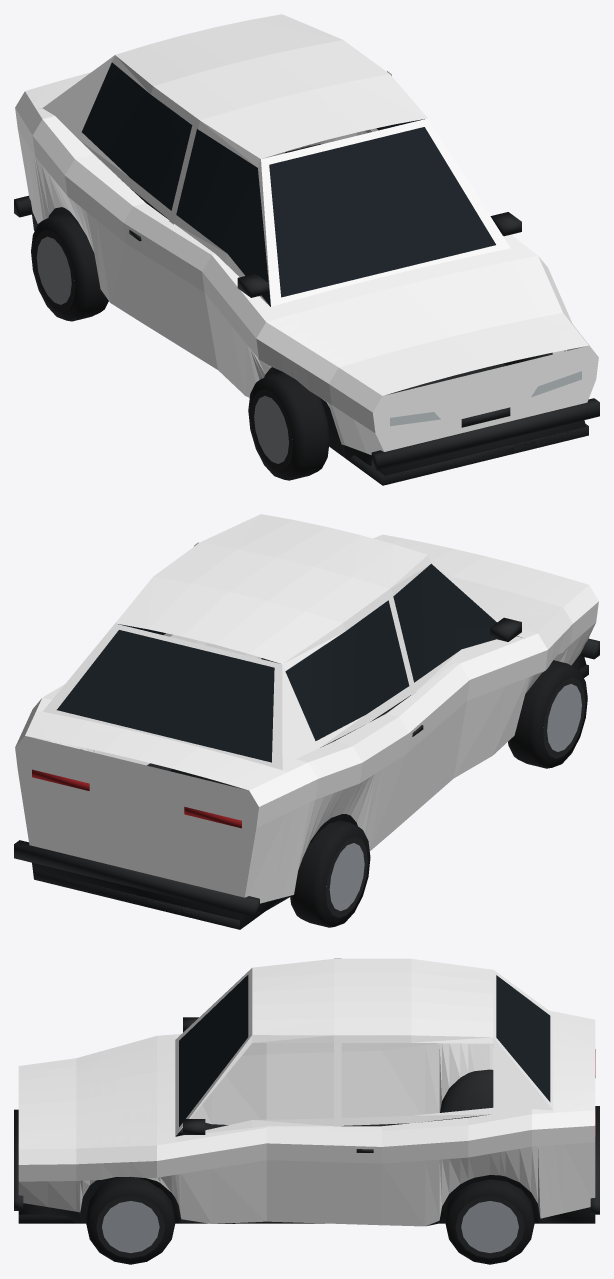
The model's file is tomoe_grilo.glb.
The picture shows the model from 3 angles, top to bottom: view 1: azimuth 30°, elevation 25°; view 2: azimuth 150°, elevation 25°; view 3: azimuth 270°, elevation 25°; orthographic projection. The views are drawn at different scales.
Parts seen in each view (by area): view 1: Body_Paint, Body_Details, Mount_FrontLeft_Wheel_Details, Mount_RearLeft_Wheel_Details; view 2: Body_Paint, Body_Details, Mount_RearLeft_Wheel_Details, Mount_FrontLeft_Wheel_Details; view 3: Body_Paint, Body_Details, Mount_FrontRight_Wheel_Details, Mount_RearRight_Wheel_Details.
Boxes of the visible parts, x1,y1,x2,y2 form: Body_Paint: (15,14,598,454); Body_Details: (14,62,599,485); Mount_FrontLeft_Wheel_Details: (248,372,329,480); Mount_RearLeft_Wheel_Details: (31,213,108,321); Body_Paint: (15,514,598,903); Body_Details: (14,563,599,929); Mount_RearLeft_Wheel_Details: (290,820,370,927); Mount_FrontLeft_Wheel_Details: (508,660,587,768); Body_Paint: (18,958,595,1226); Body_Details: (14,975,599,1226); Mount_FrontRight_Wheel_Details: (86,1176,175,1264); Mount_RearRight_Wheel_Details: (445,1179,534,1264).
Size of the model in its own units: 1.66 by 1.38 by 3.42.
2 materials, 1 textured.
